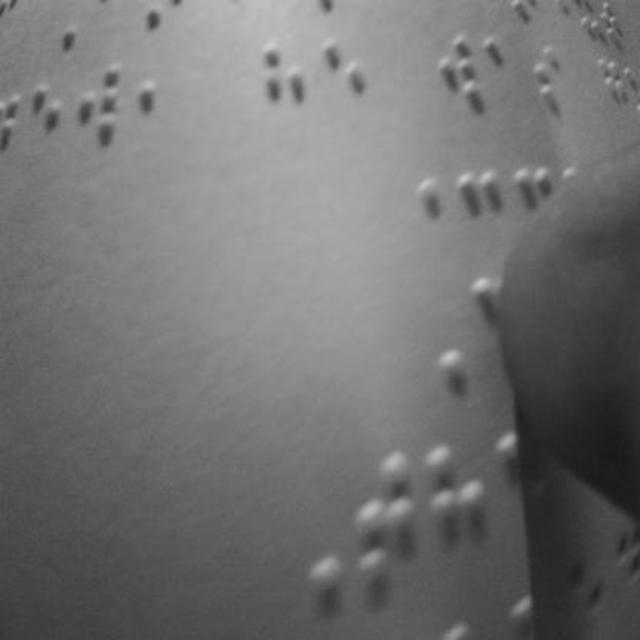braiile: (352, 449, 418, 599), (426, 438, 490, 586), (137, 46, 193, 156), (320, 28, 372, 142), (259, 34, 311, 144), (432, 22, 484, 118), (77, 65, 126, 165), (20, 76, 68, 172)
